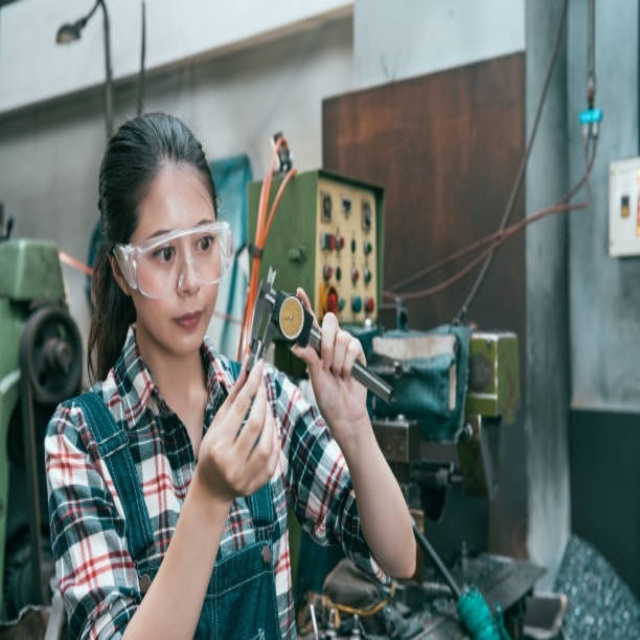Gafas: (114, 220, 234, 301)
Sin_guantes: (197, 352, 282, 501), (288, 308, 373, 431)
Sin_mascara: (159, 301, 208, 350)
